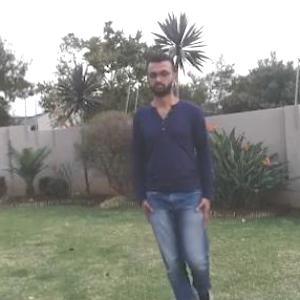follow: (140, 49, 208, 299)
